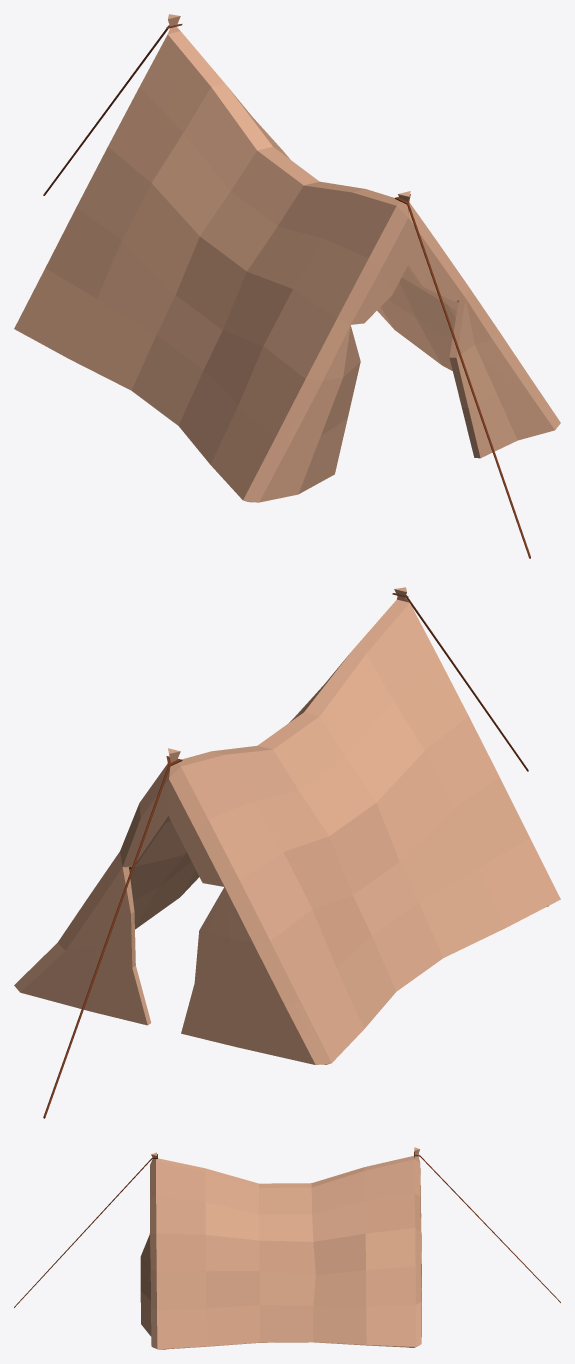
Rendered from Tent_V01.fbx.
3 views of the same model, one above another, from view 1: azimuth 30°, elevation 25°; view 2: azimuth 150°, elevation 25°; view 3: azimuth 270°, elevation 25° (orthographic). The views are drawn at different scales.
Parts seen in each view (by area): view 1: Tent_V01; view 2: Tent_V01; view 3: Tent_V01.
Boxes of the visible parts, left/top/right/bottom form: Tent_V01: left=14, top=14, right=560, bottom=558; Tent_V01: left=14, top=587, right=560, bottom=1118; Tent_V01: left=14, top=1147, right=560, bottom=1349.
Size of the model in its own units: 197 by 167 by 521.
